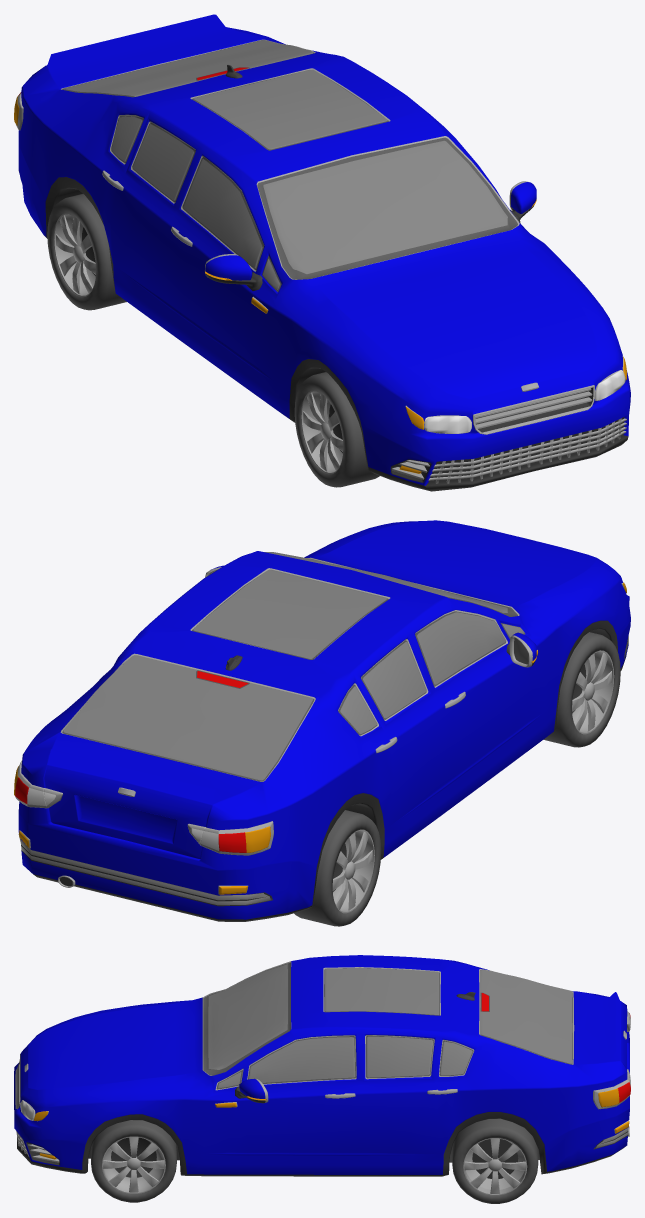
Rendered from SedanModel.fbx.
3 renders of one model, top to bottom at view 1: azimuth 30°, elevation 25°; view 2: azimuth 150°, elevation 25°; view 3: azimuth 270°, elevation 25°, orthographic. The views are drawn at different scales.
Parts seen in each view (by area): view 1: Body, WheelRightFront, WheelRightRear; view 2: Body, WheelRightRear, WheelRightFront; view 3: Body, WheelLeftRear, WheelLeftFront.
Boxes of the visible parts, x1,y1,x2,y2 form: Body: [14, 14, 630, 491]; WheelRightFront: [294, 372, 379, 487]; WheelRightRear: [47, 194, 126, 310]; Body: [14, 520, 630, 921]; WheelRightRear: [294, 810, 381, 926]; WheelRightFront: [543, 632, 620, 747]; Body: [14, 955, 630, 1176]; WheelLeftRear: [452, 1118, 538, 1203]; WheelLeftFront: [91, 1120, 176, 1202].
Size of the model in its own units: 2.08 by 1.35 by 4.57.
